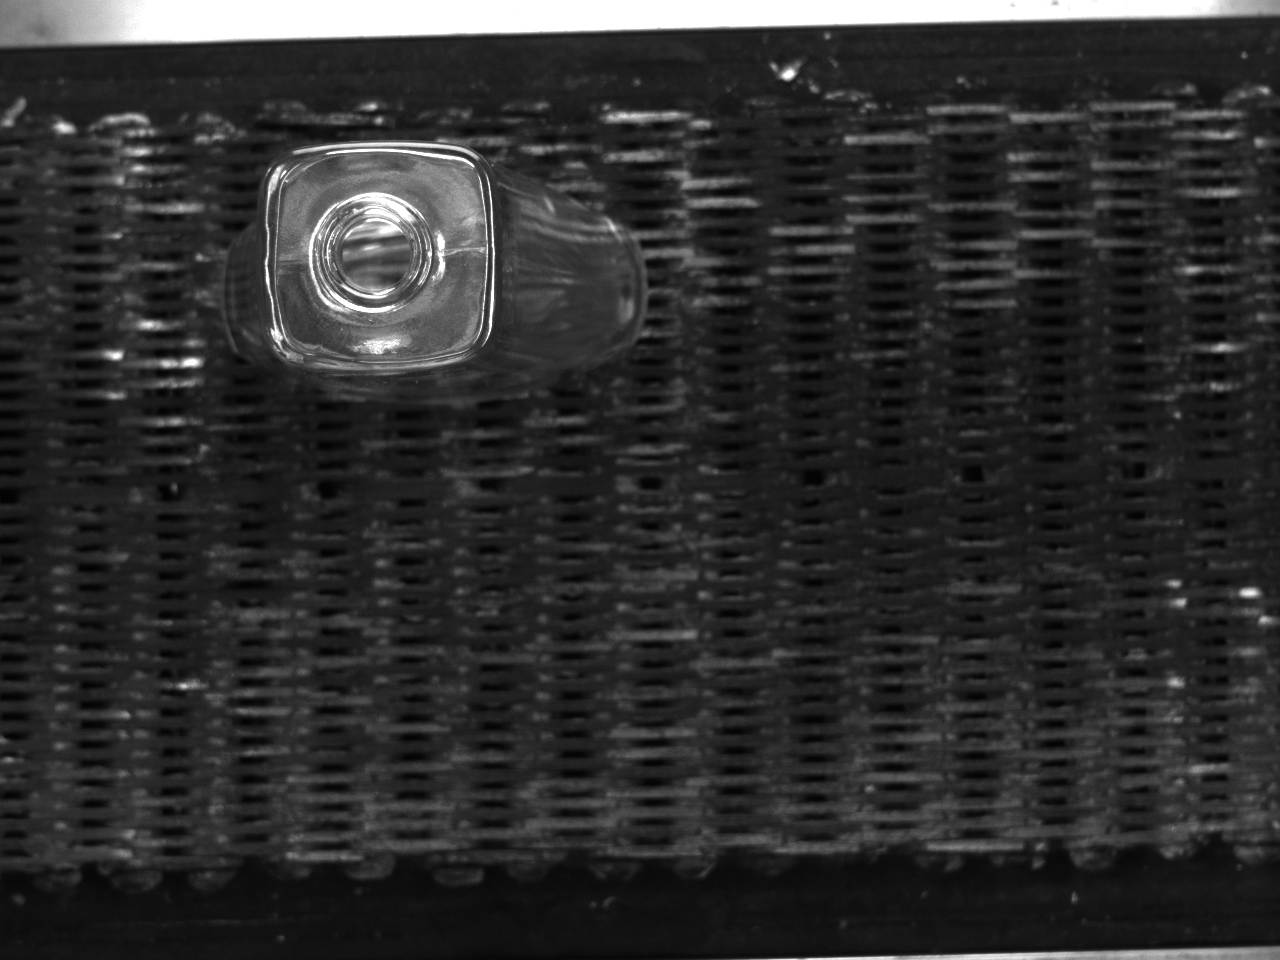bottleneck: (312, 193, 433, 314)
